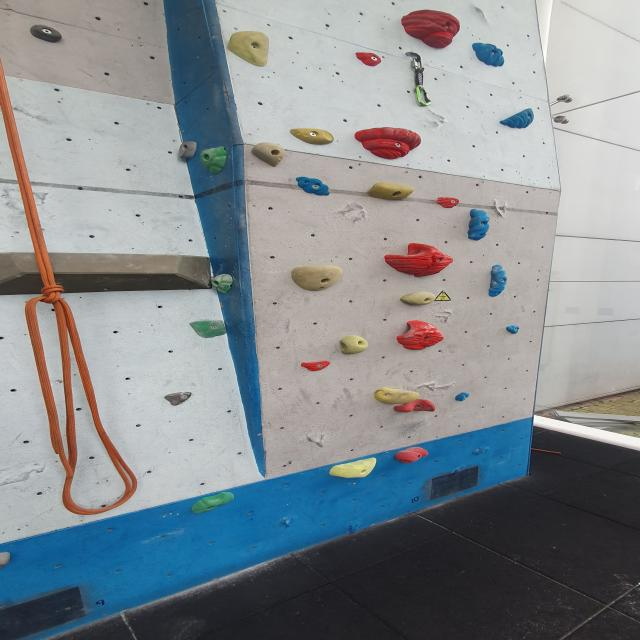Crimp: (327, 457, 381, 479), (292, 174, 336, 199), (188, 492, 246, 510), (494, 108, 538, 128), (299, 359, 333, 372), (352, 54, 382, 68), (436, 198, 462, 209), (453, 392, 473, 404), (507, 325, 522, 333)
Jug: (383, 242, 456, 279), (397, 9, 463, 49), (355, 127, 423, 159), (226, 30, 276, 67), (288, 264, 346, 292), (395, 320, 447, 350), (250, 140, 292, 170), (366, 182, 415, 200), (338, 336, 371, 356), (398, 289, 439, 305), (394, 398, 438, 412)
Pinch: (200, 147, 232, 177), (187, 318, 227, 339), (468, 208, 490, 242), (488, 264, 508, 298)
Pocket: (470, 40, 508, 69)
Sloper: (372, 387, 421, 406), (288, 128, 336, 146), (392, 447, 430, 464)
